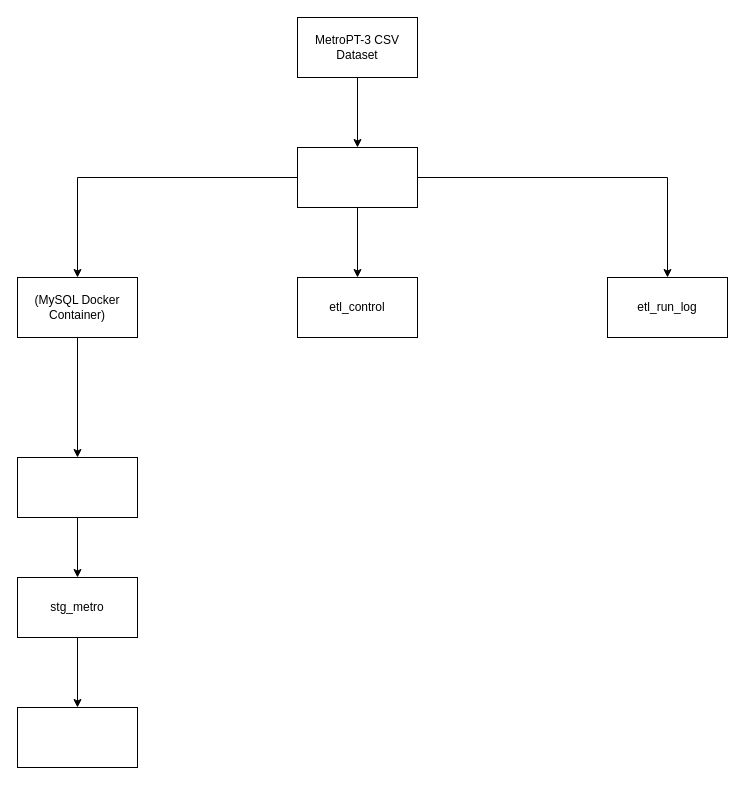
This 745x785 diagram has some shape labels left out. The centre of each missing label's shape, as x and y in pixels:
metro_data: (x=77, y=737)
Python ETL (Jupyter): (x=357, y=177)
raw_metro: (x=77, y=487)
